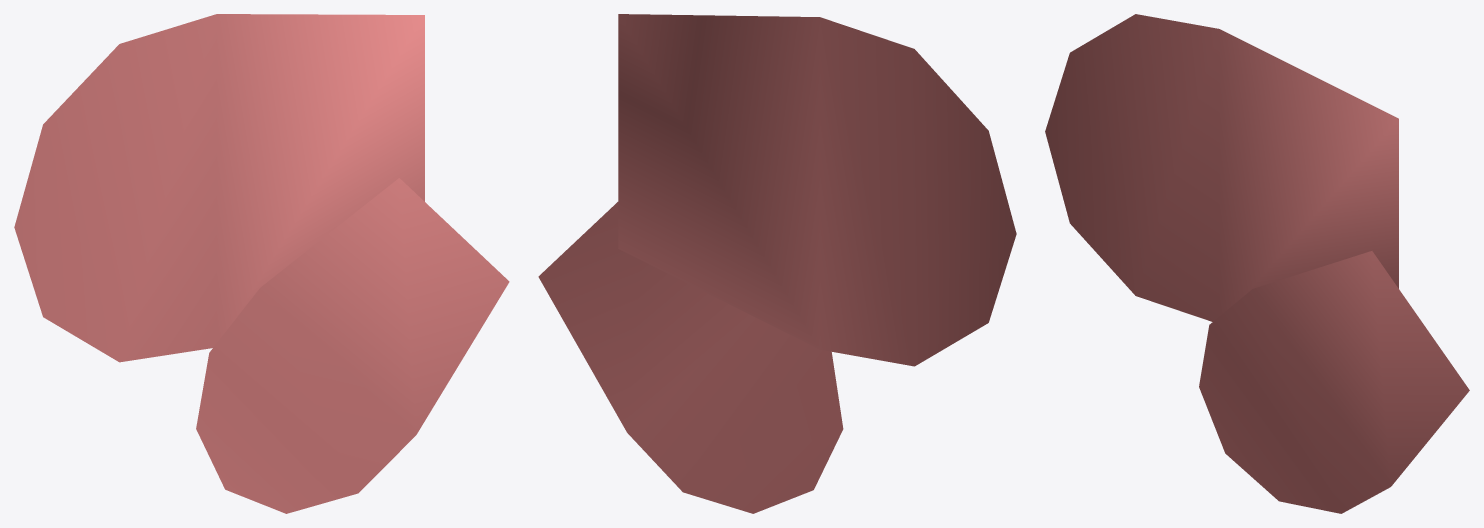
Rendered from entity832072.gltf.
3 renders of one model, left to right at view 1: azimuth 30°, elevation 25°; view 2: azimuth 150°, elevation 25°; view 3: azimuth 330°, elevation 25°, orthographic. The views are drawn at different scales.
Parts seen in each view (by area): view 1: node_mesh_butterfly_01; view 2: node_mesh_butterfly_01; view 3: node_mesh_butterfly_01.
Boxes of the visible parts, x1=… form: node_mesh_butterfly_01: x1=14, y1=14, x2=509, y2=513; node_mesh_butterfly_01: x1=538, y1=14, x2=1016, y2=513; node_mesh_butterfly_01: x1=1045, y1=14, x2=1469, y2=513.
Bounding box in the file's own units: 0.1263 × 0.1277 × 0.00354.
